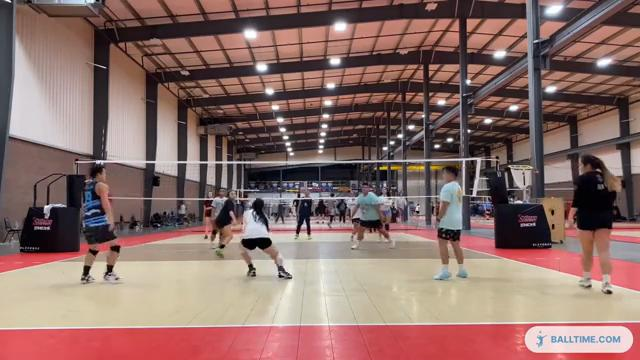Player: (569, 155, 620, 293), (81, 163, 120, 282), (240, 198, 291, 278), (434, 167, 466, 279), (351, 183, 394, 249), (214, 190, 235, 257), (211, 189, 226, 248), (295, 188, 312, 239), (349, 191, 360, 240), (379, 187, 391, 230), (203, 191, 212, 238)
Receive: (233, 195, 294, 280)
